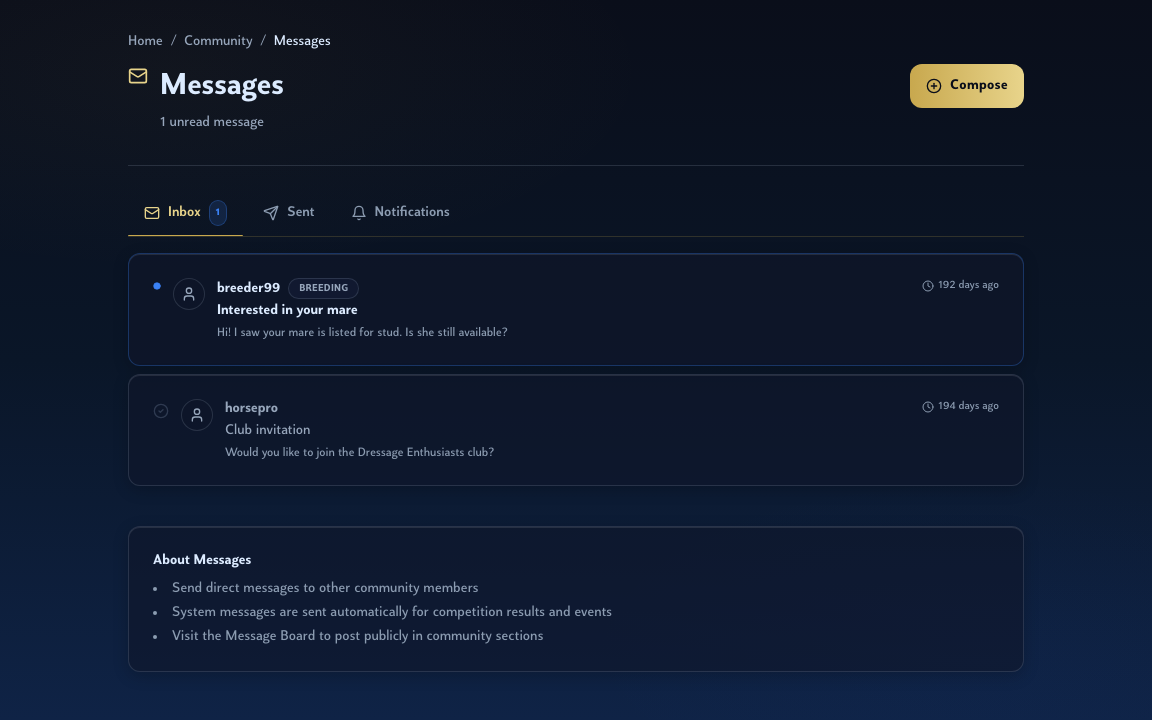
Test: MessagesPage — tab switching (Equoria-o5hub.30) › switching to Notifications shows the honest empty notifications state
Expected: the text "Interested in your mare" is shown, [217,303,358,318]
Click the tab with test id "tab-notifications". click: point(400, 213)
box: [334,193,466,233]
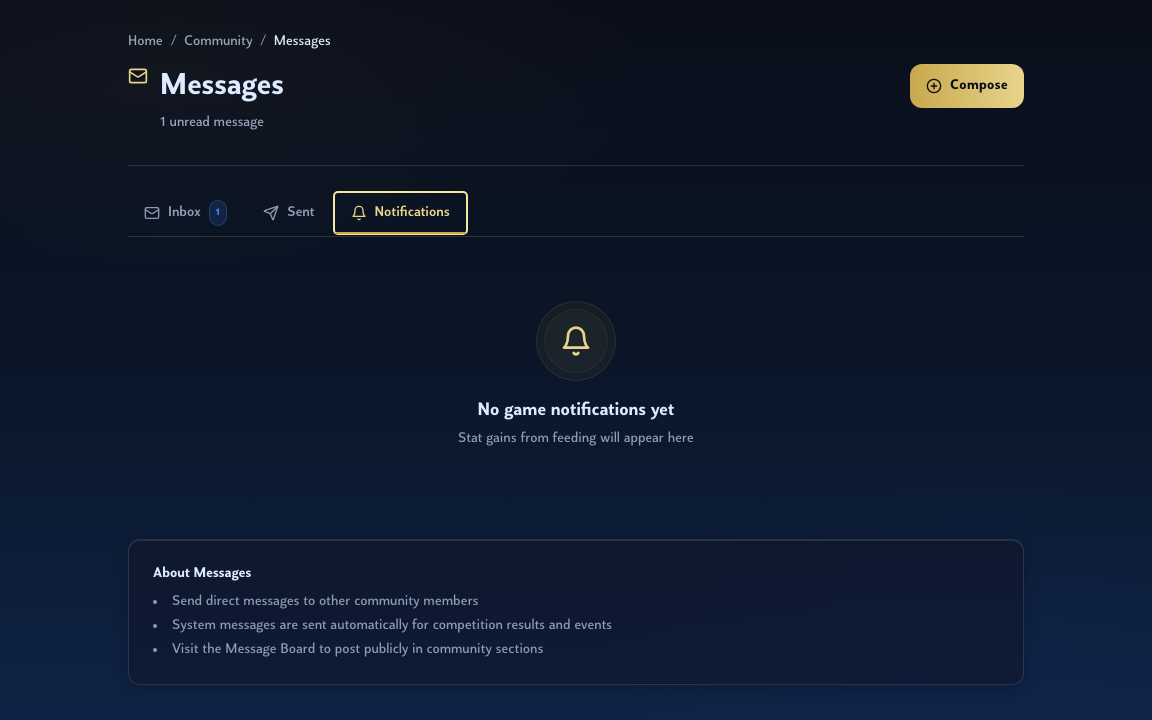
Now the element with test id "empty-notifications" is shown, box [458,301,694,446]
